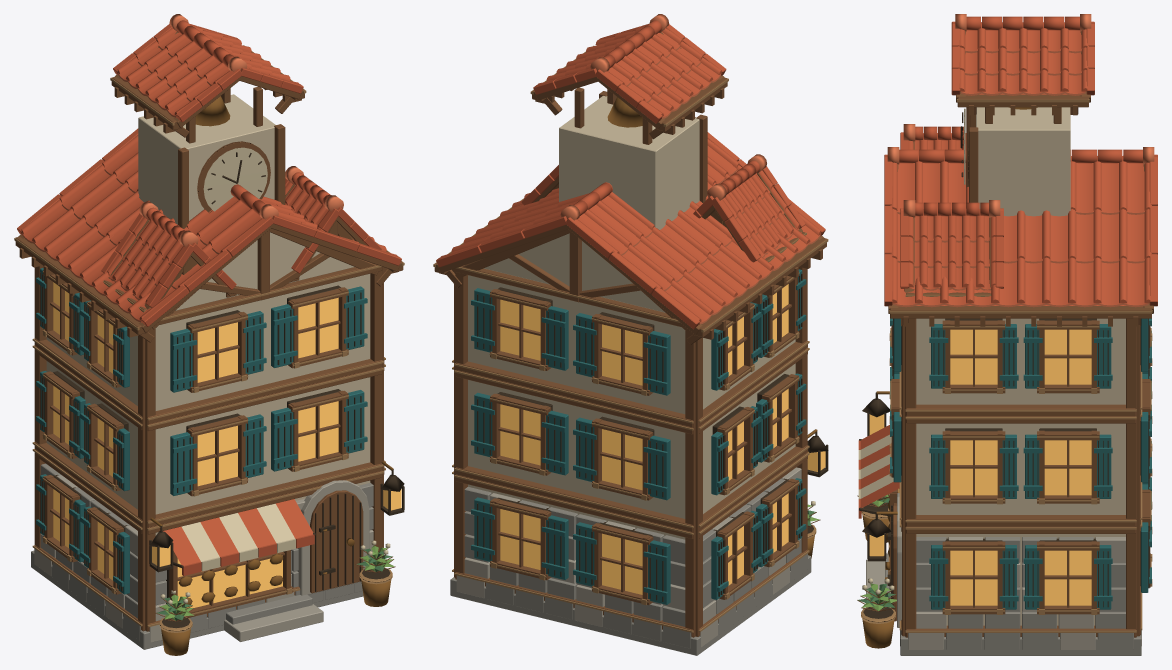
3 renders of one model, left to right at view 1: azimuth 30°, elevation 25°; view 2: azimuth 150°, elevation 25°; view 3: azimuth 270°, elevation 25°, orthographic. The views are drawn at different scales.
Visible parts, largest first — view 1: alpine_shop_3_geometry, alpine_shop_3_geometry ceramic; view 2: alpine_shop_3_geometry, alpine_shop_3_geometry ceramic; view 3: alpine_shop_3_geometry, alpine_shop_3_geometry ceramic.
Part boxes in pixels (left/top/right/bottom): alpine_shop_3_geometry: left=14, top=32, right=404, bottom=655; alpine_shop_3_geometry ceramic: left=17, top=14, right=401, bottom=575; alpine_shop_3_geometry: left=433, top=32, right=828, bottom=655; alpine_shop_3_geometry ceramic: left=436, top=14, right=825, bottom=329; alpine_shop_3_geometry: left=857, top=31, right=1153, bottom=655; alpine_shop_3_geometry ceramic: left=858, top=14, right=1157, bottom=518.
Bounding box in the file's own units: 0.9171 × 1.76 × 0.8306.
